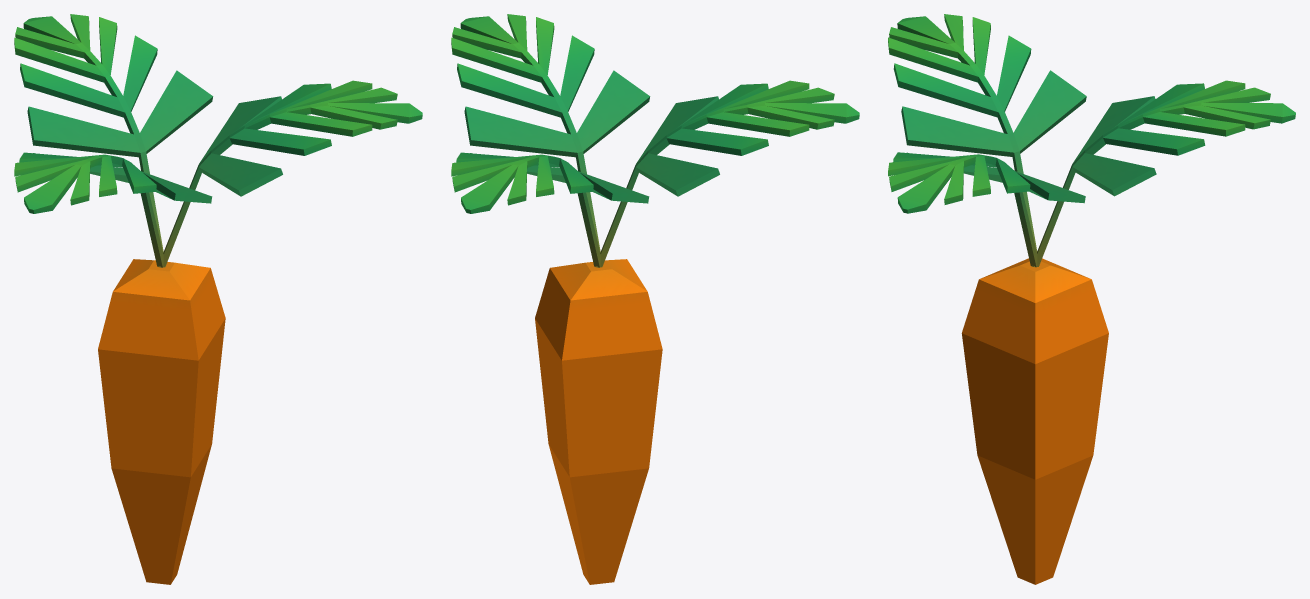
File: carrot3.glb
3 renders of one model, left to right at view 1: azimuth 30°, elevation 25°; view 2: azimuth 150°, elevation 25°; view 3: azimuth 270°, elevation 25°, orthographic.
Parts seen in each view (by area): view 1: Carrot3; view 2: Carrot3; view 3: Carrot3.
Boxes of the visible parts, x1,y1,x2,y2 form: Carrot3: [14, 14, 422, 584]; Carrot3: [451, 14, 859, 584]; Carrot3: [888, 14, 1295, 584].
Bounding box in the file's own units: 0.9947 × 1.15 × 0.8938.
Materials: 1 (1 with a texture image).
